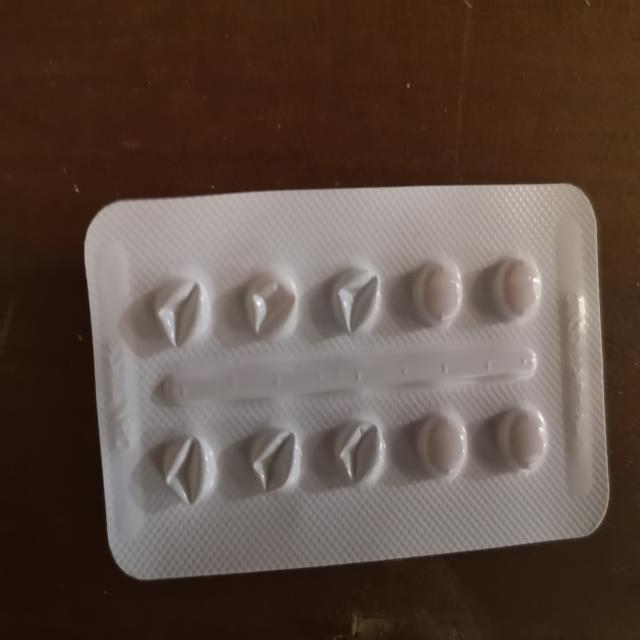Empty: (231, 257, 305, 345), (140, 273, 214, 358), (156, 432, 223, 513), (323, 258, 386, 342), (244, 417, 307, 501), (326, 408, 388, 492)
Pill: (408, 403, 477, 488), (404, 252, 472, 332), (490, 400, 554, 483), (486, 251, 548, 329)
